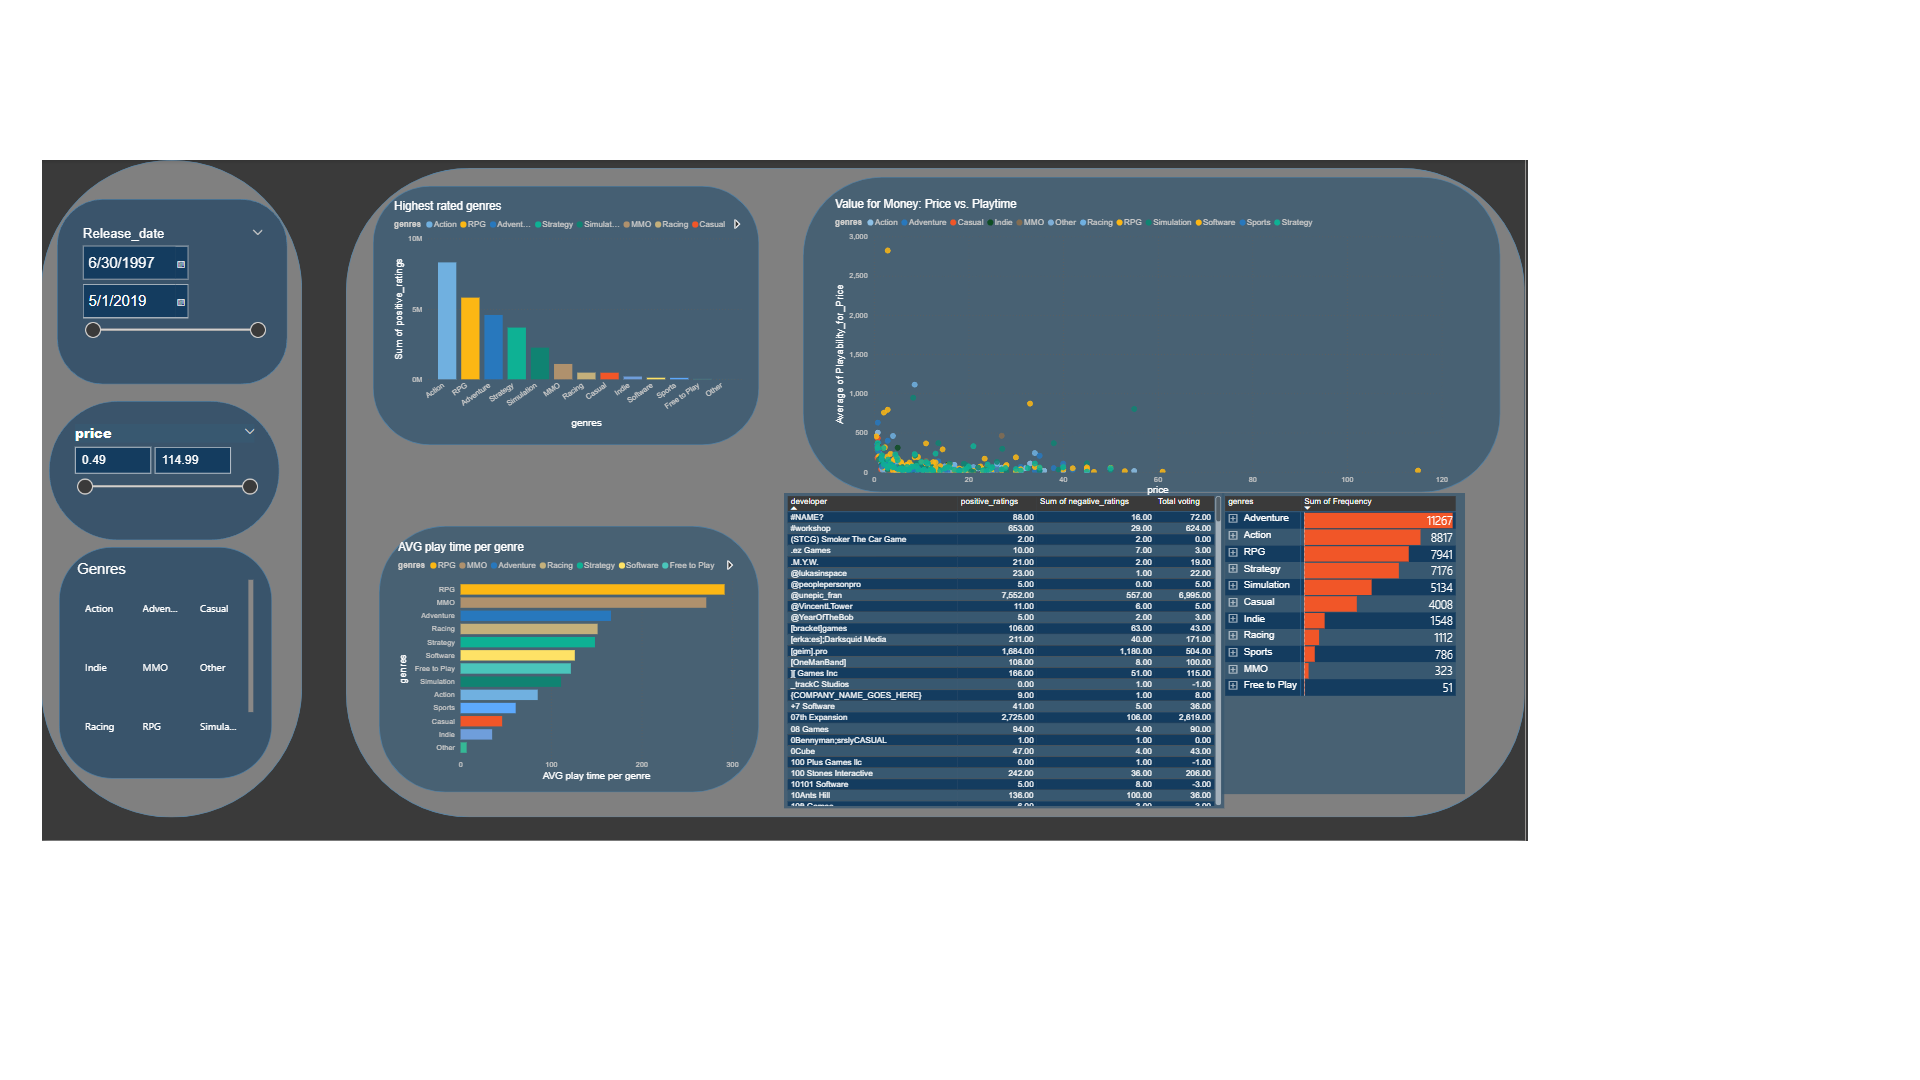

The page's visual inventory and layout, read from the dashboard file:
{"tool":"powerbi","page":{"name":"Page 1","canvas":[2400,1100],"ordinal":0},"visuals":[{"type":"shape","box":[0,0,422.4,1063.4],"z":0},{"type":"shape","box":[493.6,13.3,1906.4,1050.1],"z":1000},{"type":"shape","box":[546.6,591.3,614.5,430.6],"z":2000},{"type":"shape","box":[28.6,625.4,344.4,374.6],"z":3000},{"type":"shape","box":[13.3,389.2,372.7,225.3],"z":4000},{"type":"shape","box":[26.5,62.9,372.7,299.8],"z":5000},{"type":"tableEx","fields":{"Values":["Genre_Cleaned.developer","Genre_Cleaned.positive_ratings","Genre_Cleaned.negative_ratings","Genre_Cleaned.Sum of positive_ratings minus Sum of negative_ratings"]},"box":[1200.8,538.3,712.2,510.1],"z":6000},{"type":"slicer","fields":{"Values":["Genre_Cleaned.release_date"]},"box":[54.7,102.7,316.4,221.9],"z":7000},{"type":"shape","box":[536.6,41.4,624.4,419],"z":8000},{"type":"columnChart","title":"Highest rated genres","fields":{"Category":["Genre_Cleaned.genres"],"Y":["Genre_Cleaned.positive_ratings"],"Series":["Genre_Cleaned.genres"]},"box":[566.5,62.9,576.4,376],"z":9000},{"type":"barChart","title":"AVG play time per genre","fields":{"Category":["Genre_Cleaned.genres"],"Y":["Genre_Cleaned.median_playtime"],"Series":["Genre_Cleaned.genres"]},"box":[573.1,614.5,561.5,394.2],"z":10000},{"type":"shape","box":[1232.3,28.2,1128,510.1],"z":11500},{"type":"pivotTable","fields":{"Rows":["Top_common_CAT.genres","Top_common_CAT.Clean_Category"],"Values":["Top_common_CAT.Frequency"]},"box":[1909.7,538.3,392.5,487],"z":12000},{"type":"advancedSlicerVisual","title":"Genres","fields":{"Values":["Price_Value.genres"]},"box":[54,647.6,295.2,317.5],"z":13000},{"type":"slicer","fields":{"Values":["Price_Value.price"]},"box":[41.4,422.4,316.4,167.3],"z":14000},{"type":"scatterChart","title":"Value for Money: Price vs. Playtime","fields":{"X":["Price_Value.price"],"Y":["Price_Value.Playability_for_Price"],"Series":["Price_Value.genres"]},"box":[1278.7,59.6,1002.1,487],"z":14500}]}

Visuals, with their boxes on the page's 2400x1100 design canvas (x1, y1, x2, y2). These are canvas units, not pixel positions in the 1920x1080 screenshot, which may show the page scaled, cropped or inside an application window:
shape: [x1=0, y1=0, x2=422, y2=1063]
shape: [x1=494, y1=13, x2=2400, y2=1063]
shape: [x1=547, y1=591, x2=1161, y2=1022]
shape: [x1=29, y1=625, x2=373, y2=1000]
shape: [x1=13, y1=389, x2=386, y2=614]
shape: [x1=26, y1=63, x2=399, y2=363]
tableEx - Genre_Cleaned.developer x Genre_Cleaned.positive_ratings: [x1=1201, y1=538, x2=1913, y2=1048]
slicer - Genre_Cleaned.release_date: [x1=55, y1=103, x2=371, y2=325]
shape: [x1=537, y1=41, x2=1161, y2=460]
"Highest rated genres" columnChart: [x1=566, y1=63, x2=1143, y2=439]
"AVG play time per genre" barChart: [x1=573, y1=614, x2=1135, y2=1009]
shape: [x1=1232, y1=28, x2=2360, y2=538]
pivotTable - Top_common_CAT.genres x Top_common_CAT.Clean_Category: [x1=1910, y1=538, x2=2302, y2=1025]
"Genres" advancedSlicerVisual: [x1=54, y1=648, x2=349, y2=965]
slicer - Price_Value.price: [x1=41, y1=422, x2=358, y2=590]
"Value for Money: Price vs. Playtime" scatterChart: [x1=1279, y1=60, x2=2281, y2=547]
